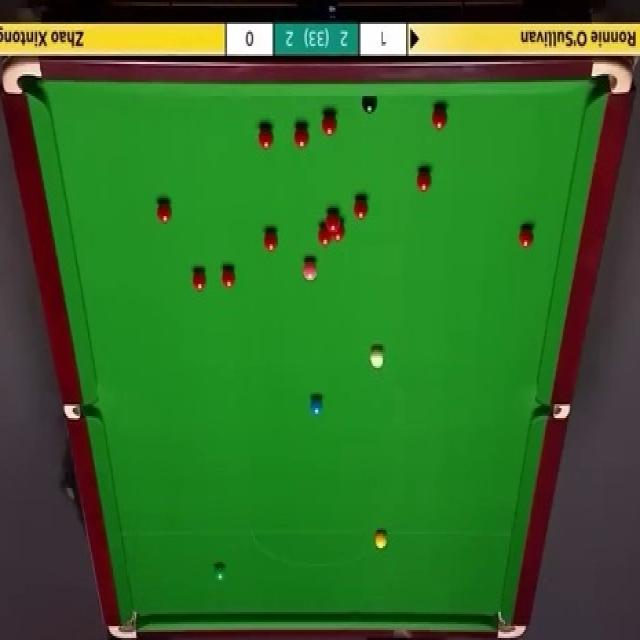pocket: (3, 58, 42, 97), (591, 60, 634, 95), (496, 609, 530, 640), (110, 610, 139, 638), (533, 403, 572, 420), (65, 403, 99, 420)
